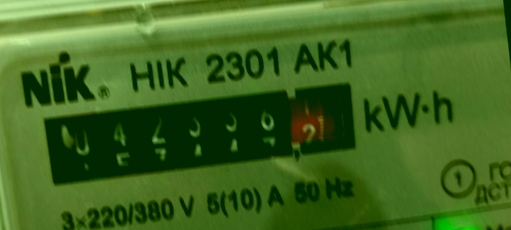0: (66, 122, 89, 157)
1: (294, 90, 309, 117)
2: (141, 109, 166, 145), (295, 121, 314, 144)
3: (178, 104, 200, 138), (217, 100, 237, 133)
4: (106, 113, 126, 147)
6: (252, 97, 276, 133)
screen: (26, 67, 369, 196)
